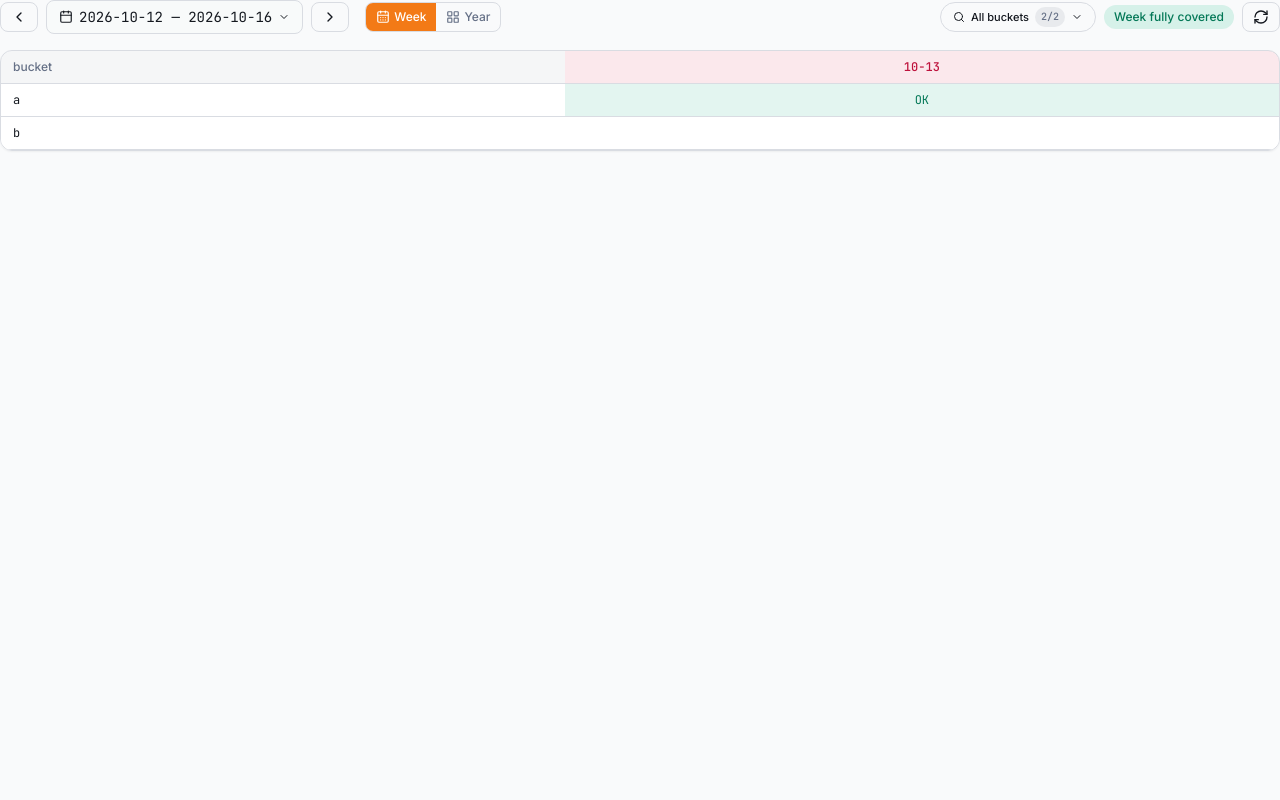
Test: StockHistoryCoveragePanel day drawer › does not claim every selected bucket is present when one has no status for the day
Click the button "10-13": (922, 67) [577,59,1267,75]
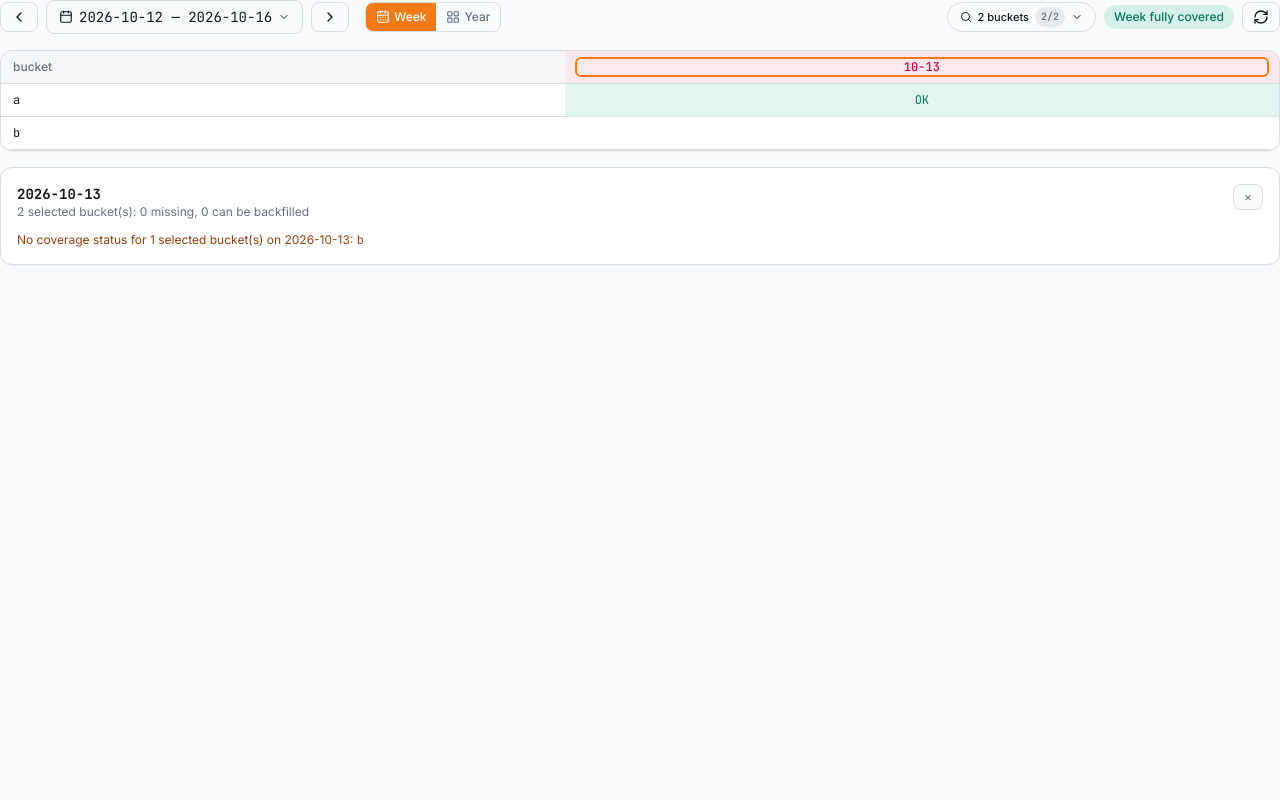
Now the element with test id "day-unknown-buckets" shows "No coverage status for 1 selected bucket(s) on 2026-10-13", box [17,232,364,248]
Now the element with test id "day-unknown-buckets" shows "b", box [357,232,364,248]
